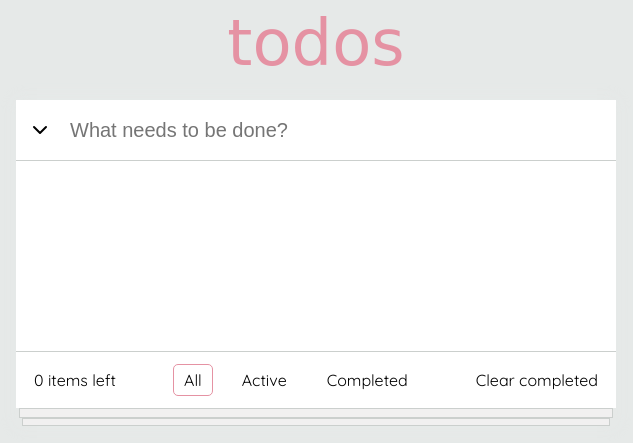
Scenario: Todo (Critical Functionality Only) › toggles task completion
Note: Добавляем задачу
In the field with placeholder "What needs to be done?": (337, 130) [70,118,604,142], type "Walk dog"
Then press Enter
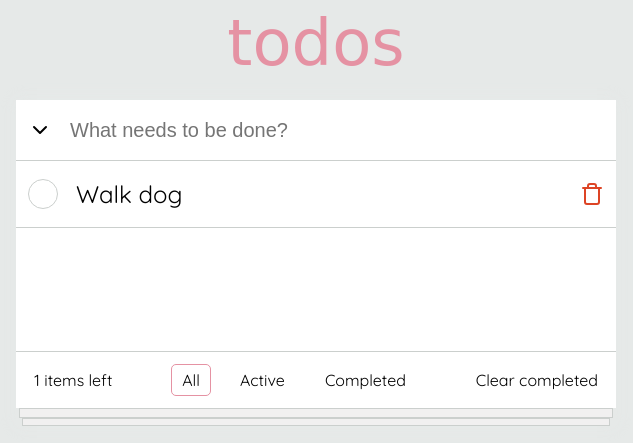
Click the element with test id "task": (316, 194) [16,161,616,228]
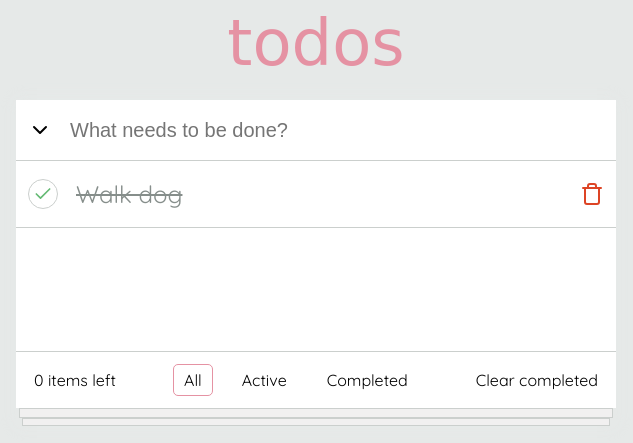
Check: the picture with test id "check-icon" is shown, box [33,184,53,204]
Note: Кликаем еще раз для отмены выполнения
Click the element with test id "task": (316, 194) [16,161,616,228]
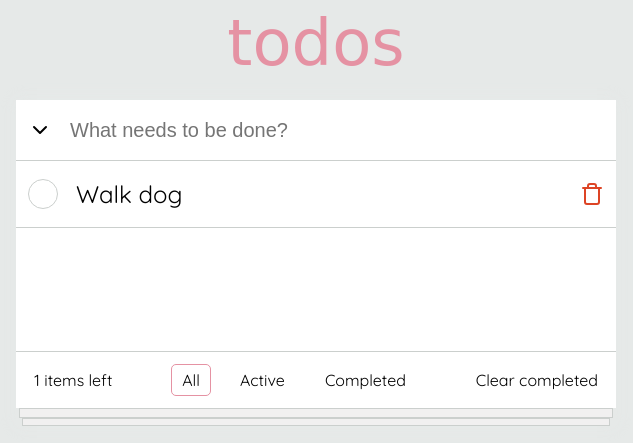
Check: the picture with test id "check-icon" is gone
